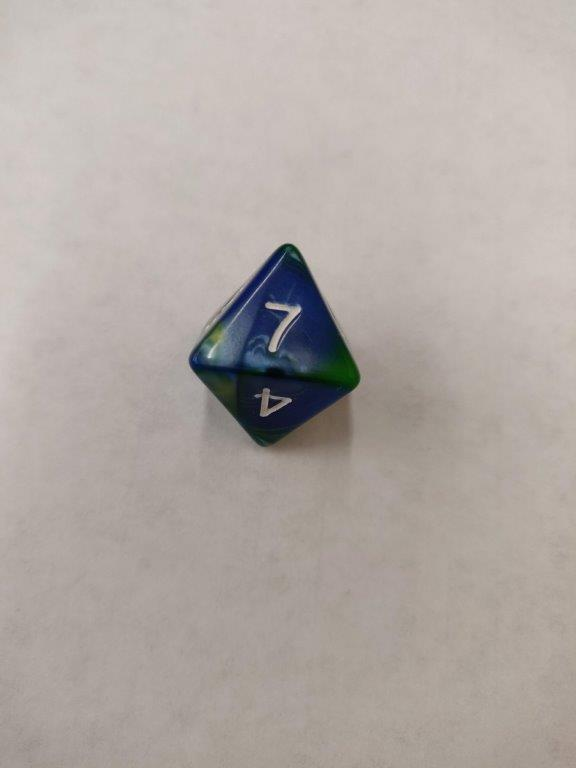d8-7: (188, 241, 362, 452)
